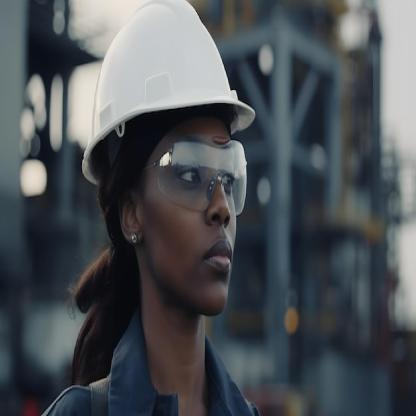capacete: (76, 0, 265, 191)
oculos: (158, 139, 246, 217)
